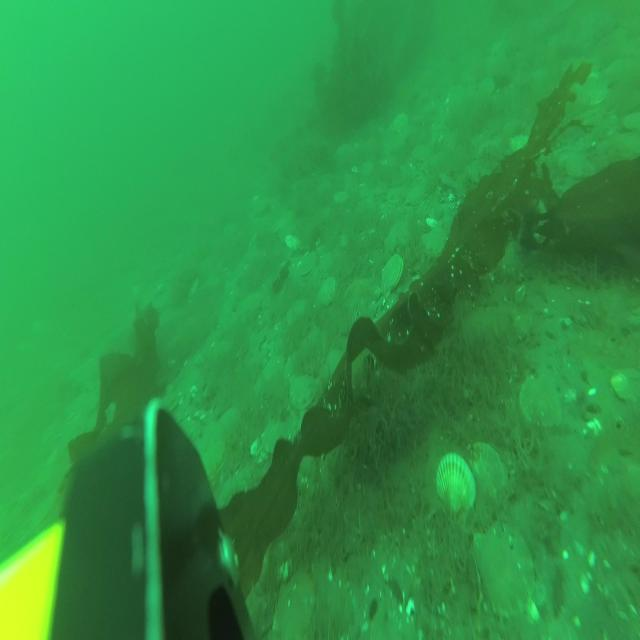scallop: (476, 524, 536, 613), (466, 446, 502, 524), (274, 575, 314, 640), (522, 370, 564, 429), (439, 454, 474, 514), (346, 274, 380, 328), (286, 376, 318, 412), (261, 422, 290, 457), (420, 221, 446, 260), (381, 253, 405, 295), (318, 276, 340, 310), (298, 252, 316, 277)
